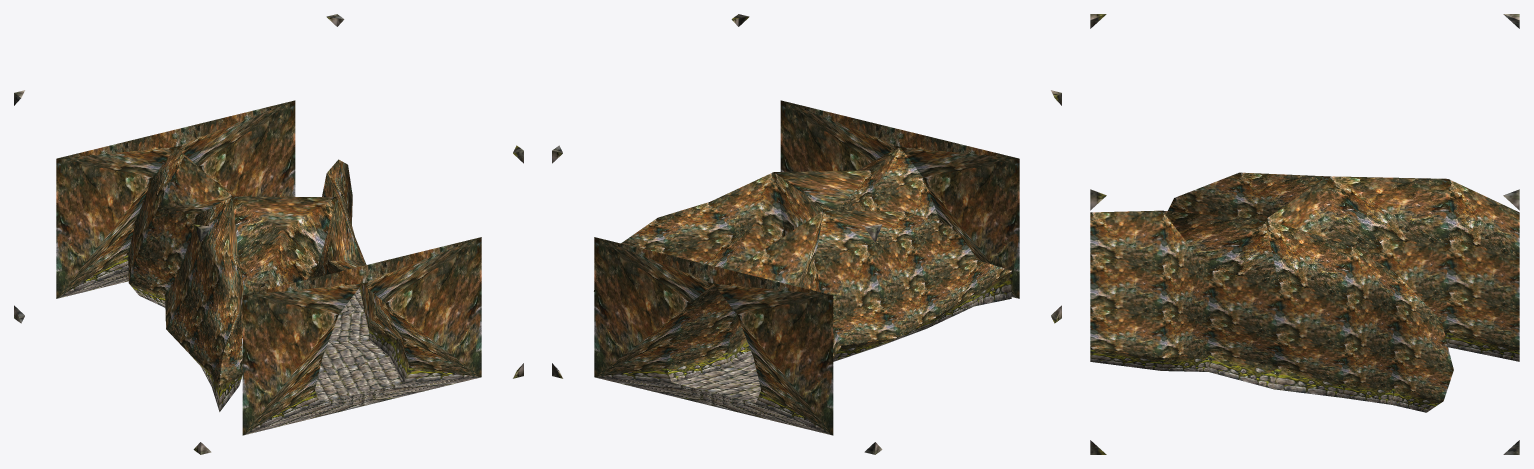
File: lbc_2e.glb
The picture shows the model from 3 angles, left to right: view 1: azimuth 30°, elevation 25°; view 2: azimuth 150°, elevation 25°; view 3: azimuth 270°, elevation 25°; orthographic projection. The views are drawn at different scales.
Parts seen in each view (by area): view 1: lbc_2e; view 2: lbc_2e; view 3: lbc_2e.
Boxes of the visible parts, x1=… form: lbc_2e: x1=14, y1=14, x2=523, y2=454; lbc_2e: x1=552, y1=14, x2=1061, y2=454; lbc_2e: x1=1090, y1=14, x2=1519, y2=454.
Size of the model in its own units: 15 by 10 by 15.
3 materials, 3 textured.
